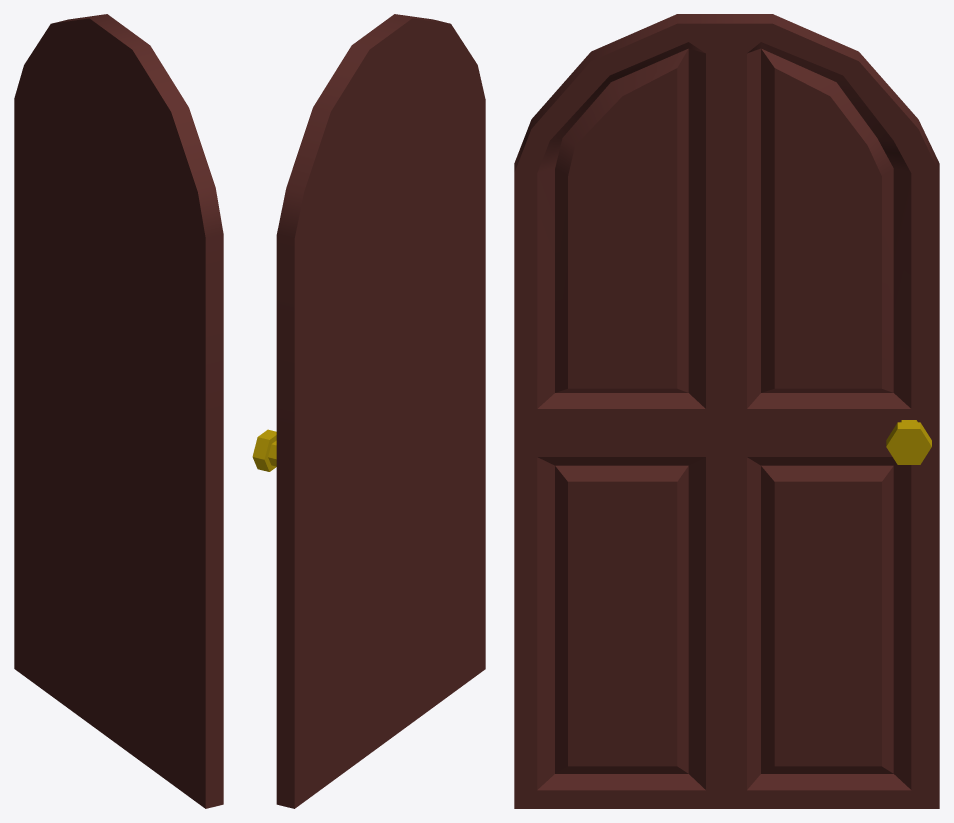
The model's file is DoorOld.fbx.
3 views of the same model, side by side, from view 1: azimuth 30°, elevation 25°; view 2: azimuth 150°, elevation 25°; view 3: azimuth 270°, elevation 25° (orthographic). The views are drawn at different scales.
Parts seen in each view (by area): view 1: pCylinder12; view 2: pCylinder12; view 3: pCylinder12.
Boxes of the visible parts, left/top/right/bottom form: pCylinder12: left=14, top=14, right=223, bottom=808; pCylinder12: left=252, top=14, right=485, bottom=808; pCylinder12: left=514, top=14, right=939, bottom=808.
Size of the model in its own units: 0.5215 by 7.68 by 3.77.
